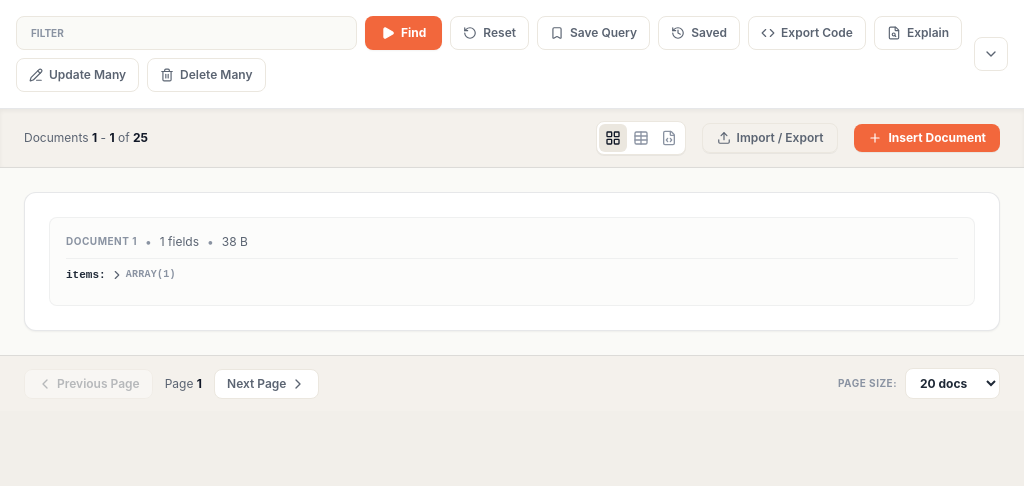
Test: DocumentExplorer – Tree view rendering › renders nested array with complex object items expanded recursively
Click the button "Array(1)".
click(143, 275)  # box [110,267,176,283]
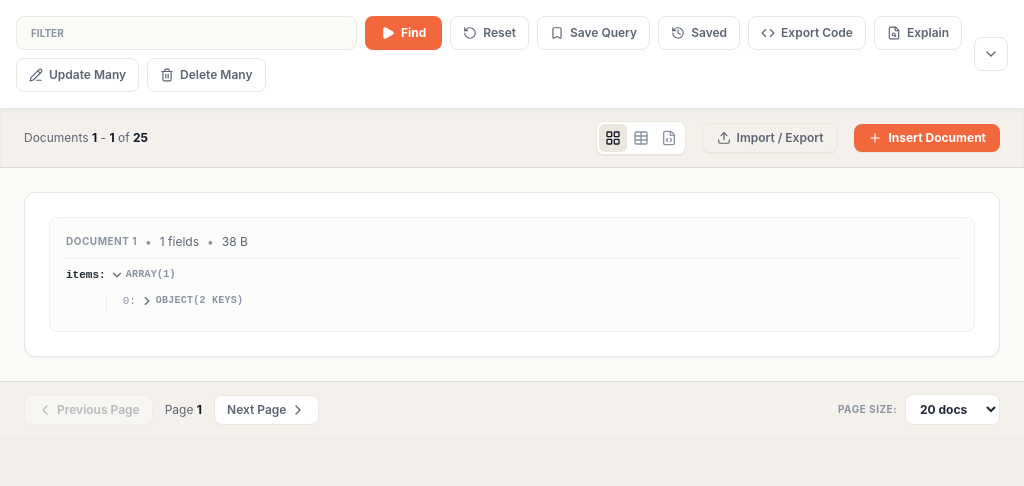
Now the text "Object(2 keys)" is shown, box [156,293,243,309]
Click the button "Object(2 keys)".
click(192, 301)  # box [140,293,243,309]
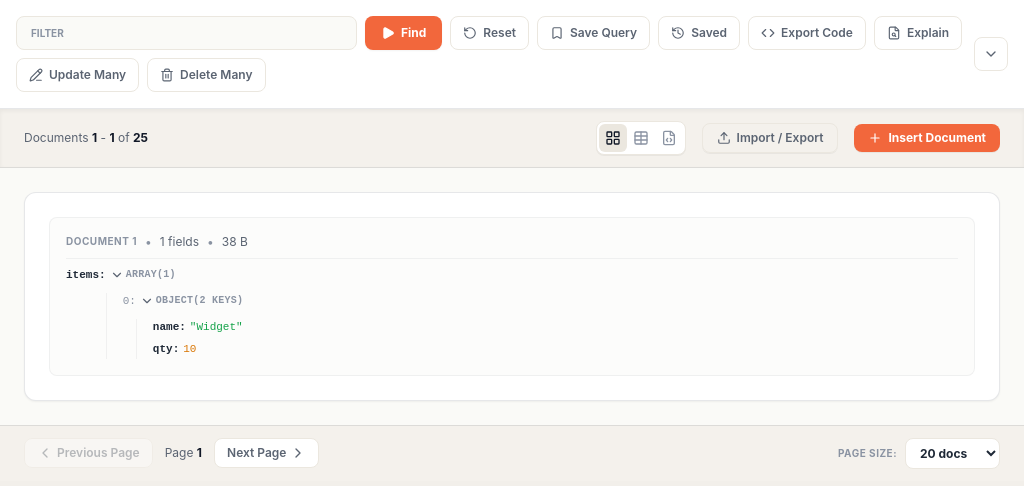
Now the text "name:" is shown, box [153,319,186,337]
Now the text "\"Widget\"" is shown, box [190,319,243,337]
